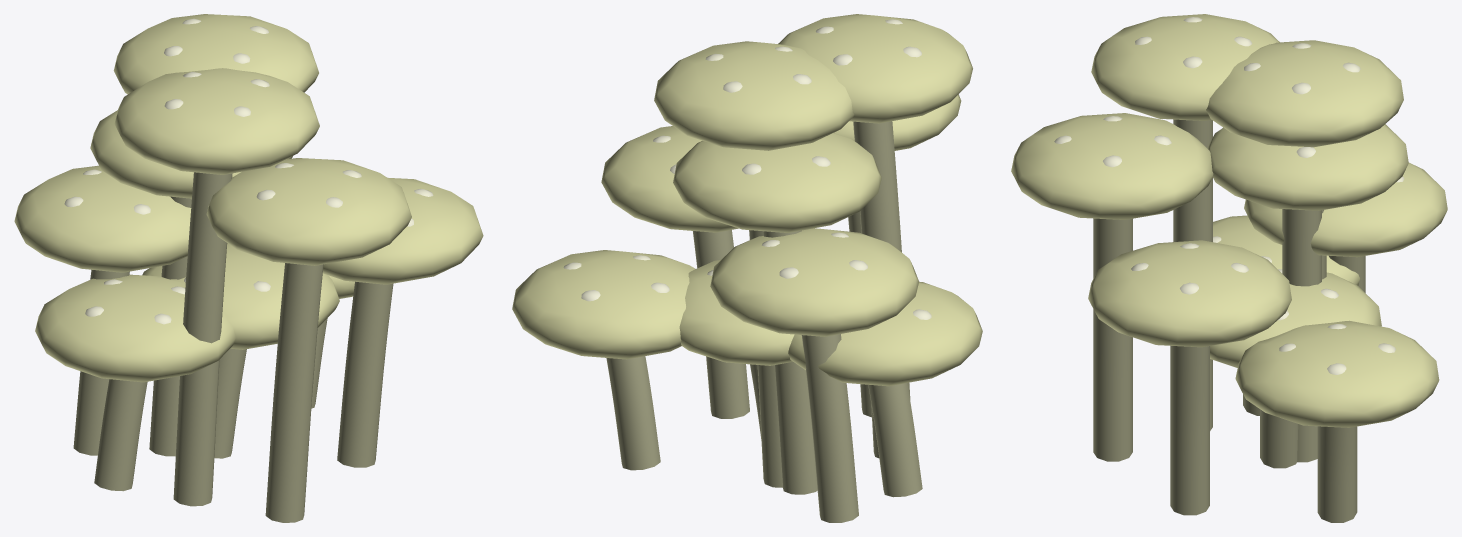
The model's file is bio_spore_fungus_16_far.glb.
3 views of the same model, side by side, from view 1: azimuth 30°, elevation 25°; view 2: azimuth 150°, elevation 25°; view 3: azimuth 270°, elevation 25° (orthographic).
Visible parts, largest first — view 1: Thick umbrella cap.007, Thick umbrella cap.002, Thick umbrella cap.004, Thick umbrella cap.001, Curved stipe.007, Thick umbrella cap.003, Curved stipe.002, Thick umbrella cap.005, Curved stipe.005, Thick umbrella cap, Curved stipe.004, Thick umbrella cap.006 (+4 smaller); view 2: Thick umbrella cap.001, Thick umbrella cap.003, Thick umbrella cap.008, Thick umbrella cap.006, Thick umbrella cap.007, Thick umbrella cap.004, Thick umbrella cap.005, Curved stipe.001, Thick umbrella cap, Curved stipe.006, Curved stipe.008, Curved stipe.004 (+5 smaller); view 3: Thick umbrella cap.005, Thick umbrella cap.002, Thick umbrella cap.008, Thick umbrella cap.003, Thick umbrella cap.007, Thick umbrella cap.006, Thick umbrella cap.001, Curved stipe.002, Curved stipe.005, Thick umbrella cap, Curved stipe.008, Curved stipe.003 (+9 smaller).
Part boxes in pixels (left/top/right/bottom): Thick umbrella cap.007: left=114, top=68, right=319, bottom=174; Thick umbrella cap.002: left=206, top=158, right=411, bottom=265; Thick umbrella cap.004: left=35, top=274, right=235, bottom=382; Thick umbrella cap.001: left=14, top=165, right=191, bottom=272; Curved stipe.007: left=173, top=172, right=232, bottom=506; Thick umbrella cap.003: left=113, top=14, right=318, bottom=94; Curved stipe.002: left=265, top=263, right=323, bottom=522; Thick umbrella cap.005: left=322, top=178, right=483, bottom=284; Curved stipe.005: left=337, top=281, right=393, bottom=467; Thick umbrella cap: left=142, top=243, right=339, bottom=349; Curved stipe.004: left=94, top=379, right=147, bottom=491; Thick umbrella cap.006: left=90, top=110, right=292, bottom=198; Thick umbrella cap.001: left=710, top=228, right=918, bottom=336; Thick umbrella cap.003: left=654, top=41, right=854, bottom=150; Thick umbrella cap.008: left=512, top=250, right=695, bottom=359; Thick umbrella cap.006: left=673, top=133, right=881, bottom=232; Thick umbrella cap.007: left=778, top=14, right=972, bottom=123; Thick umbrella cap.004: left=788, top=281, right=982, bottom=386; Thick umbrella cap.005: left=601, top=126, right=738, bottom=232; Curved stipe.001: left=801, top=334, right=858, bottom=522; Thick umbrella cap: left=679, top=260, right=794, bottom=365; Curved stipe.006: left=763, top=230, right=817, bottom=494; Curved stipe.008: left=606, top=356, right=660, bottom=470; Curved stipe.004: left=868, top=383, right=922, bottom=497; Thick umbrella cap.005: left=1088, top=240, right=1291, bottom=347; Thick umbrella cap.002: left=1011, top=113, right=1213, bottom=219; Thick umbrella cap.008: left=1235, top=320, right=1439, bottom=427; Thick umbrella cap.003: left=1206, top=40, right=1403, bottom=147; Thick umbrella cap.007: left=1091, top=14, right=1279, bottom=120; Thick umbrella cap.006: left=1207, top=124, right=1408, bottom=210; Thick umbrella cap.001: left=1244, top=162, right=1447, bottom=257; Curved stipe.002: left=1093, top=218, right=1132, bottom=461; Curved stipe.005: left=1170, top=345, right=1209, bottom=515; Thick umbrella cap: left=1210, top=272, right=1381, bottom=367; Curved stipe.008: left=1317, top=426, right=1357, bottom=522; Curved stipe.003: left=1282, top=209, right=1321, bottom=462.
Size of the model in its own units: 1.97 by 1.92 by 1.88.
